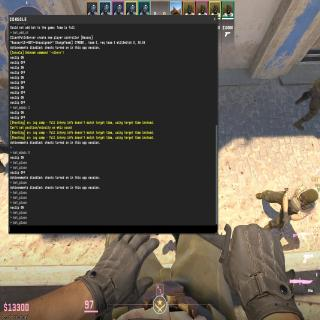CT-Body: (294, 80, 320, 130)
T-Body: (262, 183, 318, 229)
T-Head: (301, 188, 318, 204)
